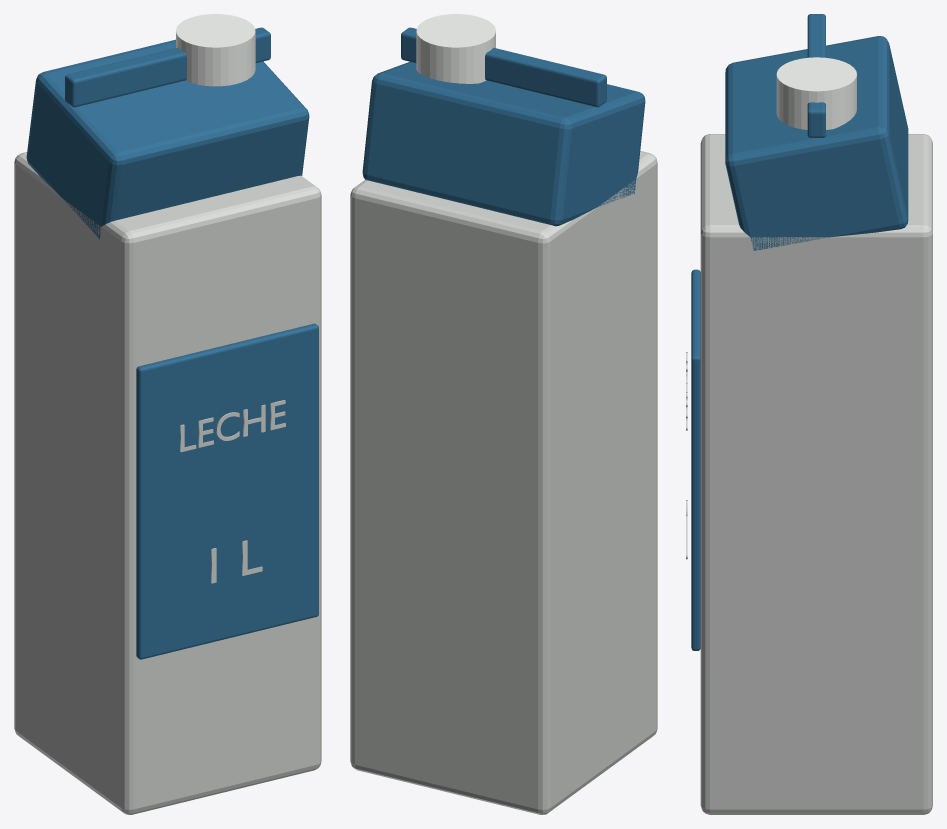
The model's file is Leche.fbx.
The picture shows the model from 3 angles, left to right: view 1: azimuth 30°, elevation 25°; view 2: azimuth 150°, elevation 25°; view 3: azimuth 270°, elevation 25°; orthographic projection.
Visible parts, largest first — view 1: Carton, Banda, Techo_plegado, Tapon, Costura_superior, Texto_LECHE; view 2: Carton, Techo_plegado, Tapon, Costura_superior; view 3: Carton, Techo_plegado, Tapon, Banda, Costura_superior.
Part boxes in pixels (x1,y1,x2,y2): Carton: (14,152,321,814); Banda: (136,323,318,659); Techo_plegado: (26,39,309,239); Tapon: (176,14,255,86); Costura_superior: (65,27,270,107); Texto_LECHE: (180,400,285,452); Carton: (350,151,657,814); Techo_plegado: (362,62,645,226); Tapon: (416,14,495,83); Costura_superior: (401,27,606,107); Carton: (700,134,932,814); Techo_plegado: (725,36,908,250); Tapon: (776,57,856,129); Banda: (691,269,700,650); Costura_superior: (807,14,825,137).
Size of the model in its own units: 7.5 by 25.6 by 7.98.
